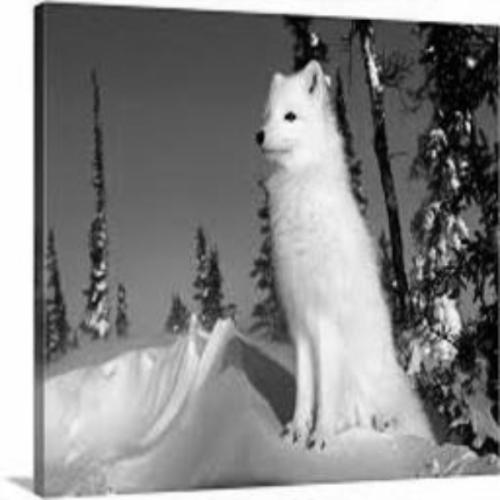arctic_fox-endangered: (254, 62, 432, 448)
